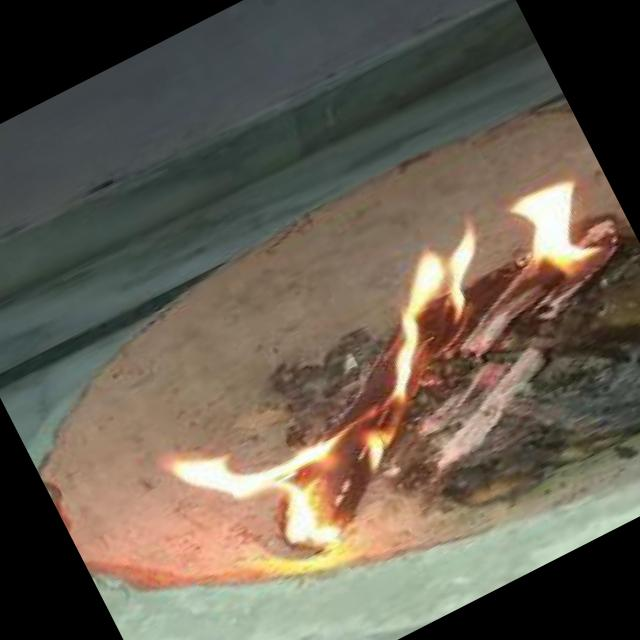fire: (114, 151, 640, 598)
